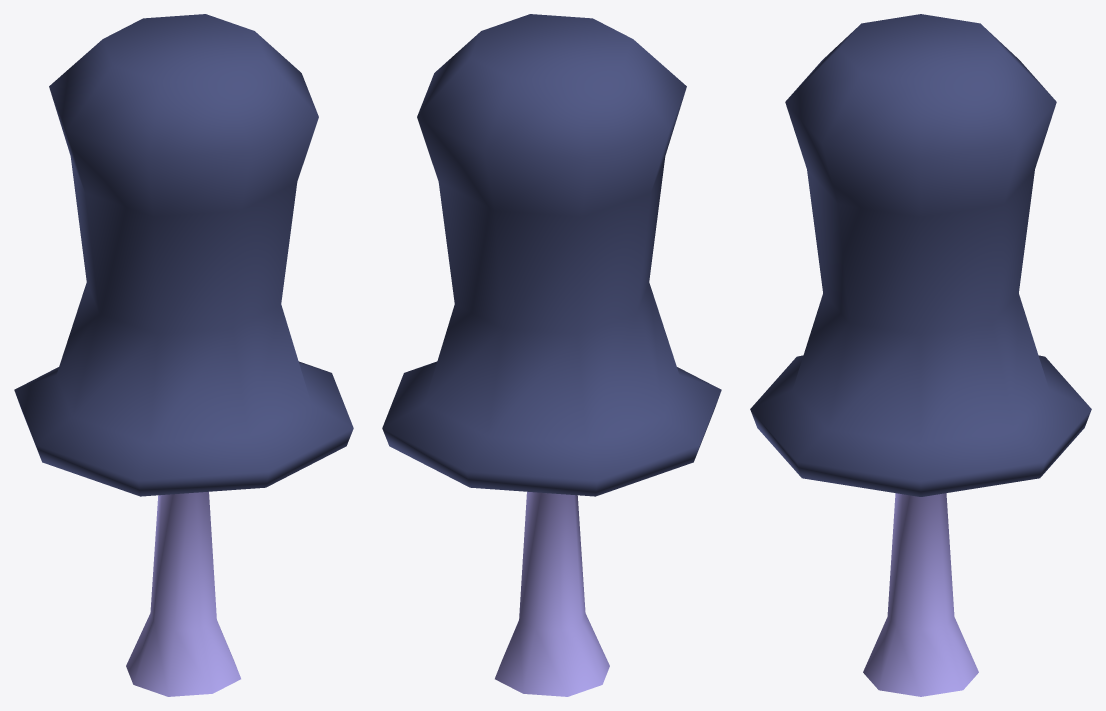
File: Mashroom_24.fbx
3 views of the same model, side by side, from view 1: azimuth 30°, elevation 25°; view 2: azimuth 150°, elevation 25°; view 3: azimuth 270°, elevation 25° (orthographic).
Parts seen in each view (by area): view 1: Mashroom_24; view 2: Mashroom_24; view 3: Mashroom_24.
Part boxes in pixels (x1,y1,x2,y2): Mashroom_24: (14,14,353,696); Mashroom_24: (382,14,721,696); Mashroom_24: (750,14,1091,696).
Size of the model in its own units: 26.8 by 54.01 by 26.8.
